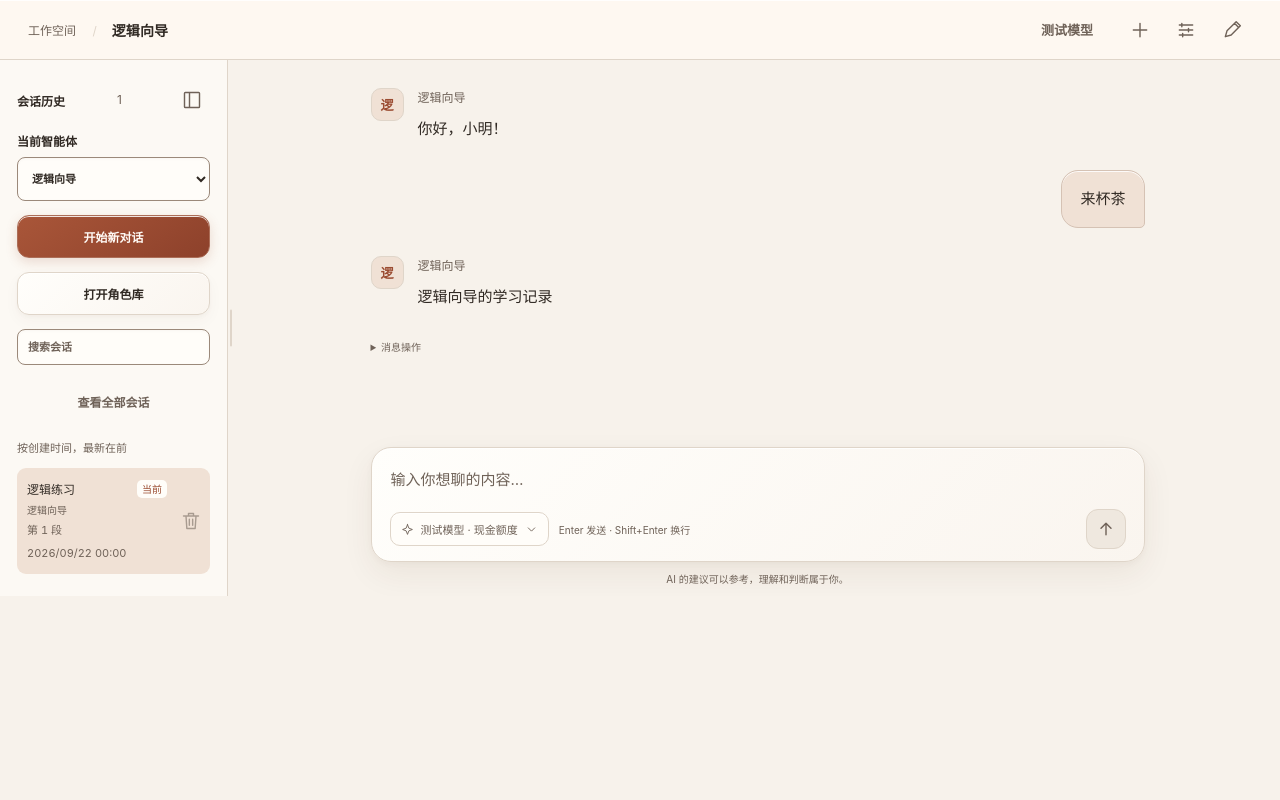
keeps each learning role unsent draft when switching away and back
This screenshot has width=1280, height=800.
Expected: the text "逻辑向导的学习记录" is shown, [418, 286, 552, 306]
Type "逻辑草稿" into the text box named "消息".
click(758, 487); type("逻辑草稿")  # box [390, 465, 1126, 509]
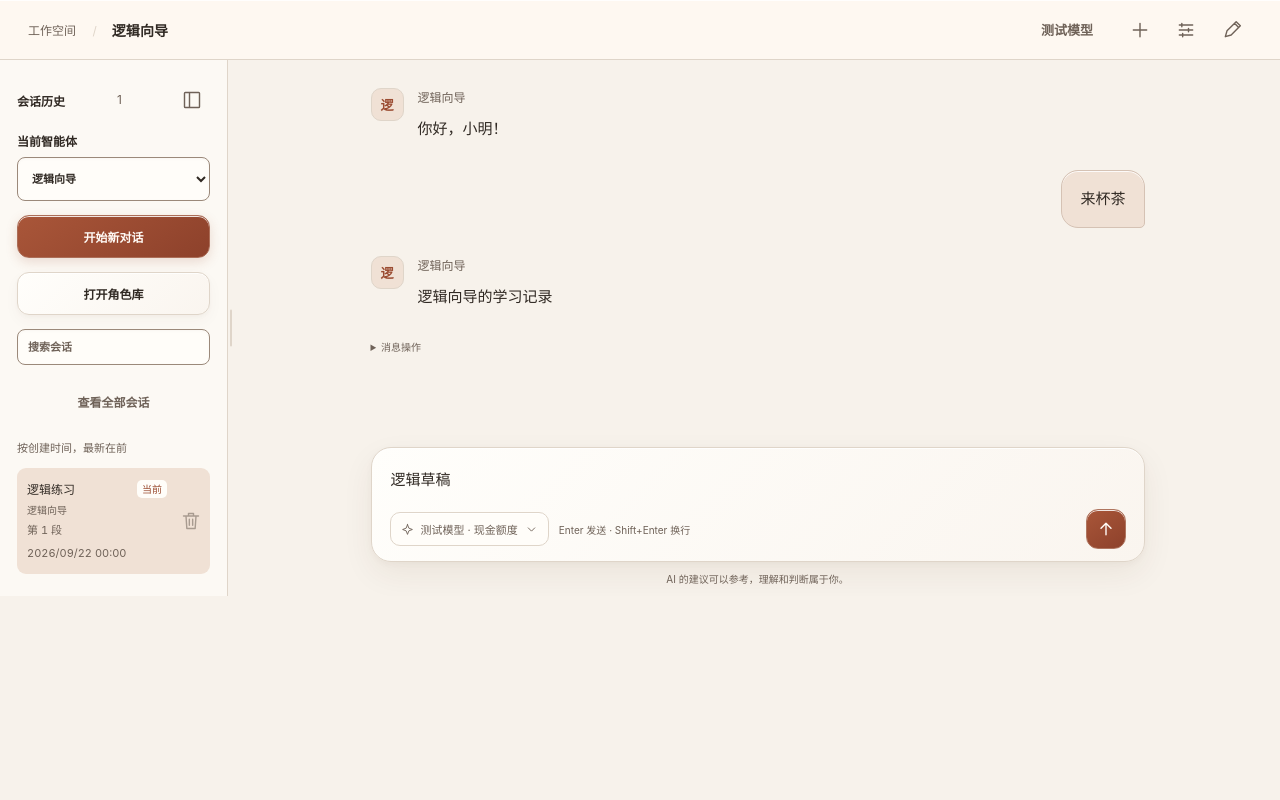
Select "阅读伙伴" in the dropdown at (114,179), box [17, 157, 210, 201]
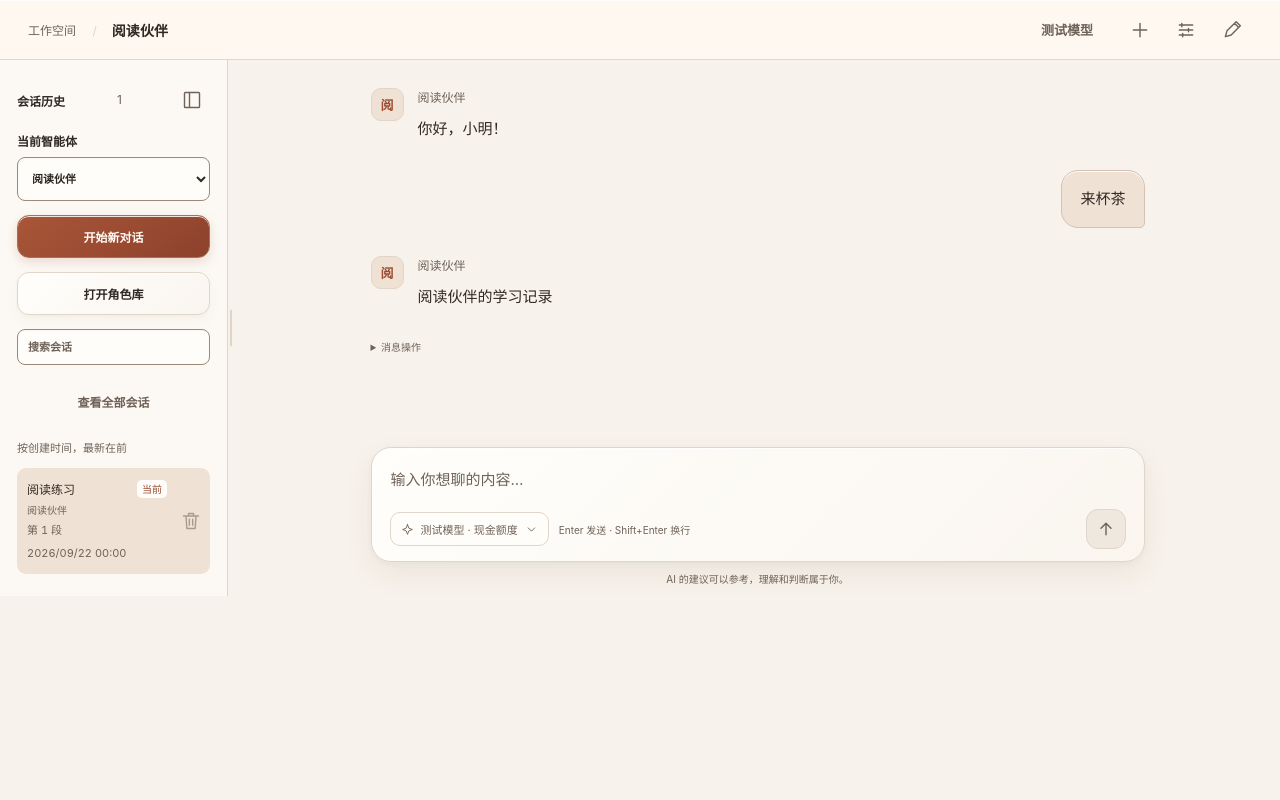
Expected: the text "阅读伙伴的学习记录" is shown, [418, 286, 552, 306]
Expected: the text box named "消息" is empty
Type "阅读草稿" into the text box named "消息".
click(758, 487); type("阅读草稿")  # box [390, 465, 1126, 509]
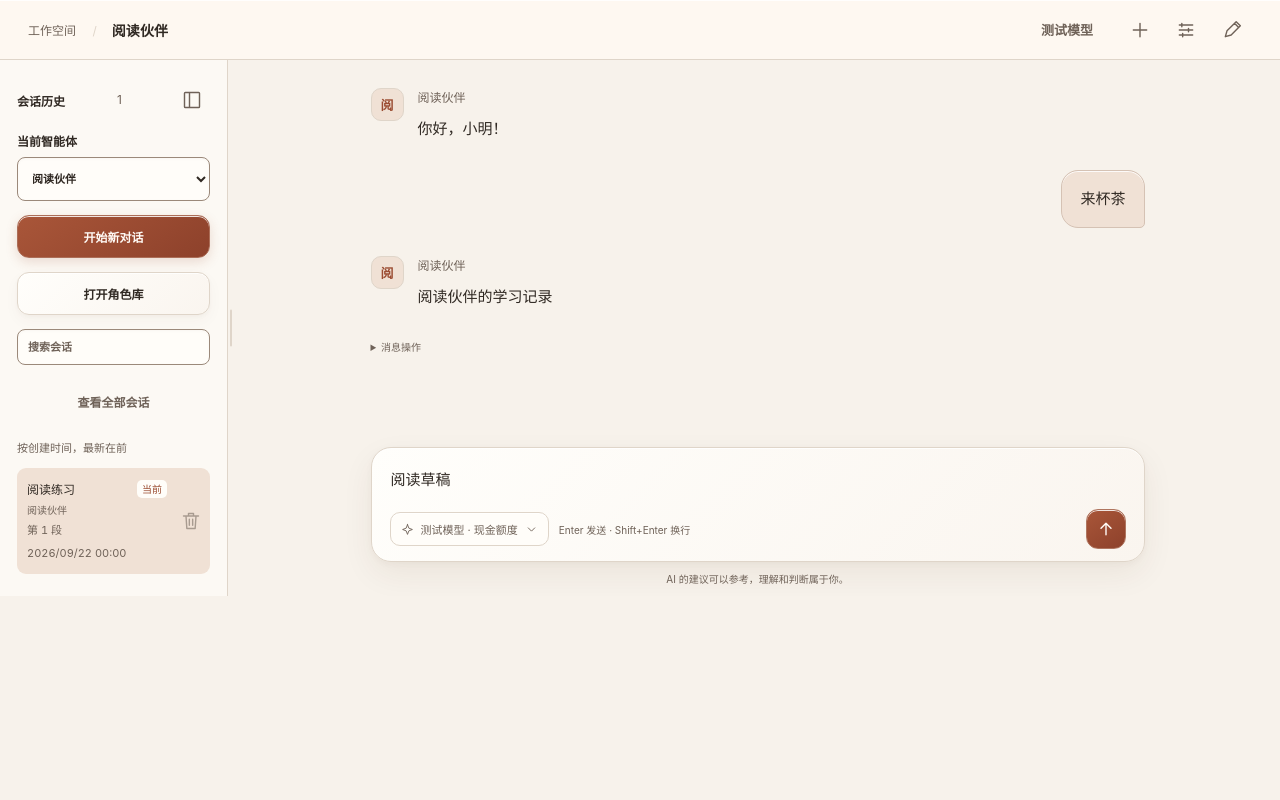
Select "逻辑向导" in the dropdown at (114,179), box [17, 157, 210, 201]
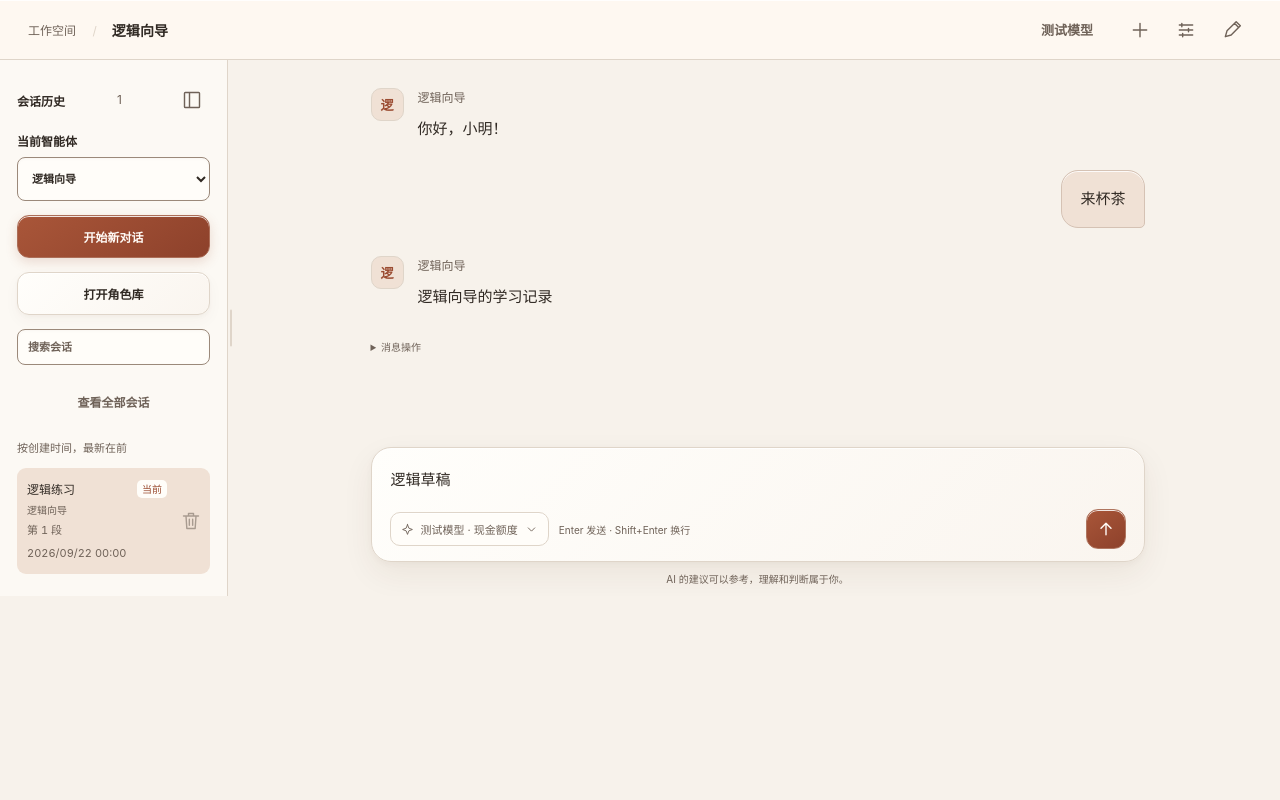
Expected: the text "逻辑向导的学习记录" is shown, [418, 286, 552, 306]
Expected: the text box named "消息" holds "逻辑草稿", [390, 465, 1126, 509]
